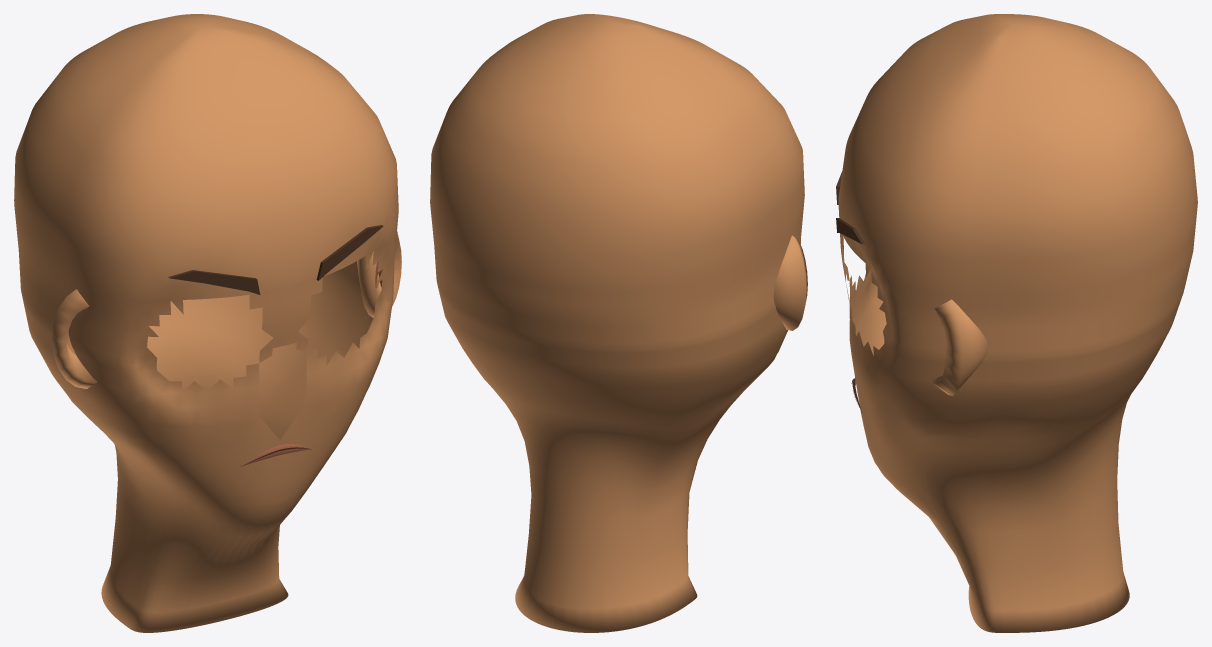
The model's file is base-feminina-04.glb.
The picture shows the model from 3 angles, left to right: view 1: azimuth 30°, elevation 25°; view 2: azimuth 150°, elevation 25°; view 3: azimuth 270°, elevation 25°; orthographic projection. The views are drawn at different scales.
Parts seen in each view (by area): view 1: RCL_Base_Feminina_04, RCL_Orelha_base-f-04_-1, RCL_Orelha_base-f-04_1, RCL_Sobrancelha_base-f-04_-1, RCL_Sobrancelha_base-f-04_1; view 2: RCL_Base_Feminina_04, RCL_Orelha_base-f-04_-1; view 3: RCL_Base_Feminina_04, RCL_Orelha_base-f-04_1.
Boxes of the visible parts, left/top/right/bottom form: RCL_Base_Feminina_04: left=14, top=14, right=398, bottom=632; RCL_Orelha_base-f-04_-1: left=52, top=289, right=97, bottom=388; RCL_Orelha_base-f-04_1: left=357, top=231, right=401, bottom=317; RCL_Sobrancelha_base-f-04_-1: left=168, top=270, right=260, bottom=294; RCL_Sobrancelha_base-f-04_1: left=316, top=225, right=383, bottom=280; RCL_Base_Feminina_04: left=430, top=14, right=804, bottom=632; RCL_Orelha_base-f-04_-1: left=773, top=235, right=807, bottom=330; RCL_Base_Feminina_04: left=838, top=14, right=1197, bottom=632; RCL_Orelha_base-f-04_1: left=930, top=299, right=988, bottom=395.
Size of the model in its own units: 0.192 by 0.305 by 0.1752.
